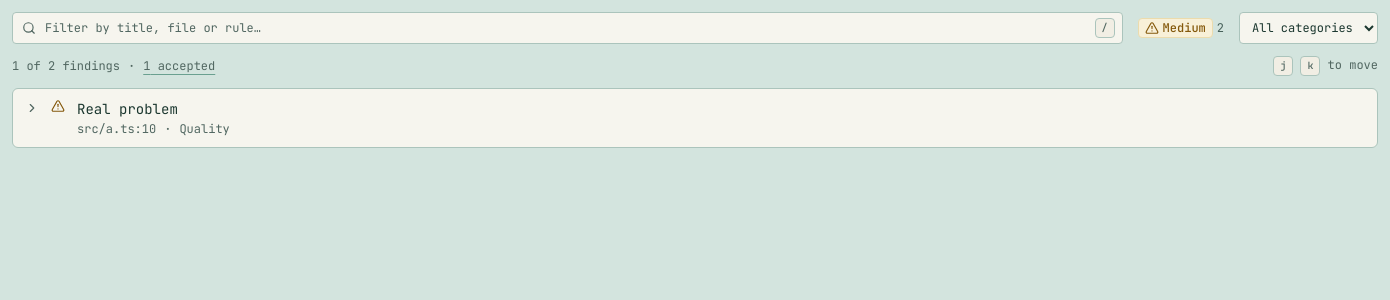
Test: FindingsPanel › hides accepted findings but never silently
This screenshot has width=1390, height=300.
Expected: the text "Known fixture key" is not shown
Expected: the text "Real problem" is shown, [77,100,178,118]
Click the button "1 accepted" at (179,66), box [143,58,215,74]
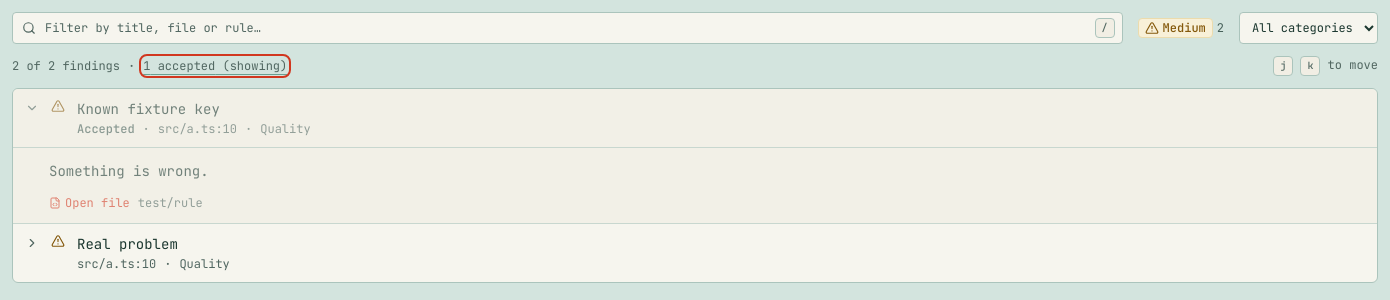
Expected: the text "Known fixture key" is shown, [77,100,220,118]
